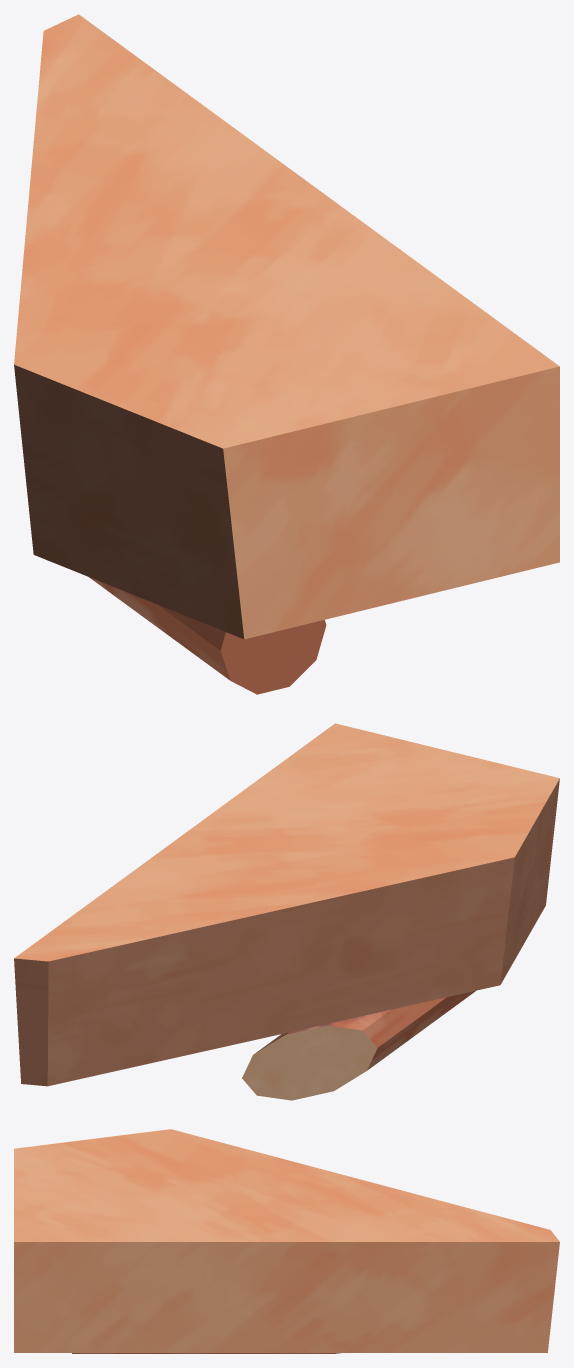
Rendered from roof_s04.fbx.
3 renders of one model, top to bottom at view 1: azimuth 30°, elevation 25°; view 2: azimuth 150°, elevation 25°; view 3: azimuth 270°, elevation 25°, orthographic. The views are drawn at different scales.
Visible parts, largest first — view 1: roof_s04; view 2: roof_s04; view 3: roof_s04.
Boxes of the visible parts, bbox=[...] form: roof_s04: bbox=[14, 14, 559, 694]; roof_s04: bbox=[14, 723, 559, 1100]; roof_s04: bbox=[14, 1129, 559, 1353].
Bounding box in the file's own units: 2.31 × 1.65 × 4.72.
